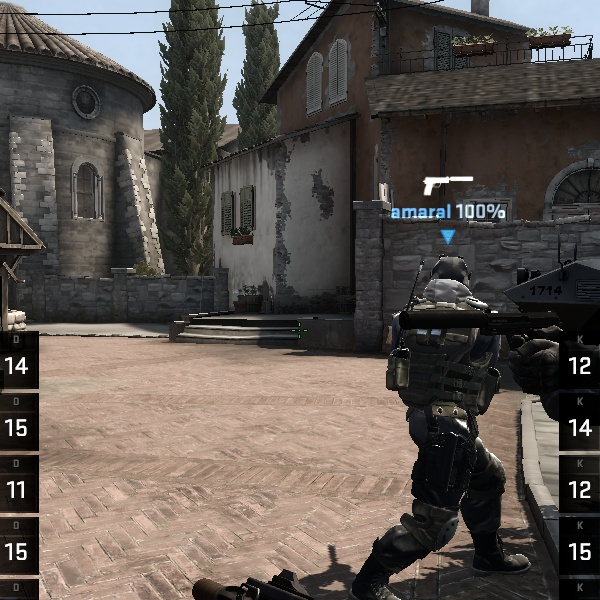ct_body: (362, 241, 545, 578)
ct_head: (416, 248, 483, 311)
